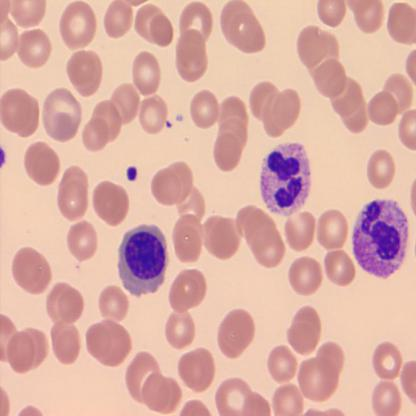NRC: (116, 220, 169, 298)
